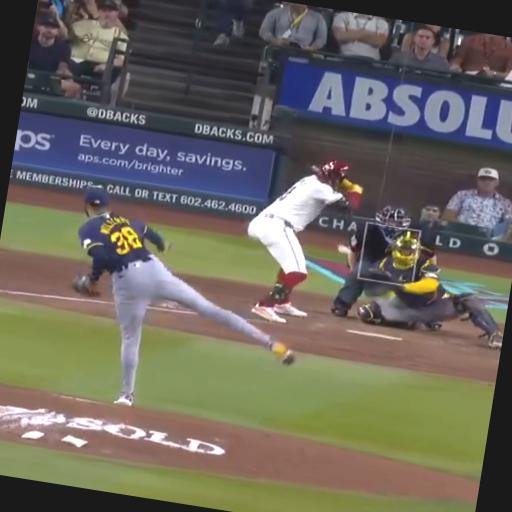bat: (272, 141, 326, 176)
